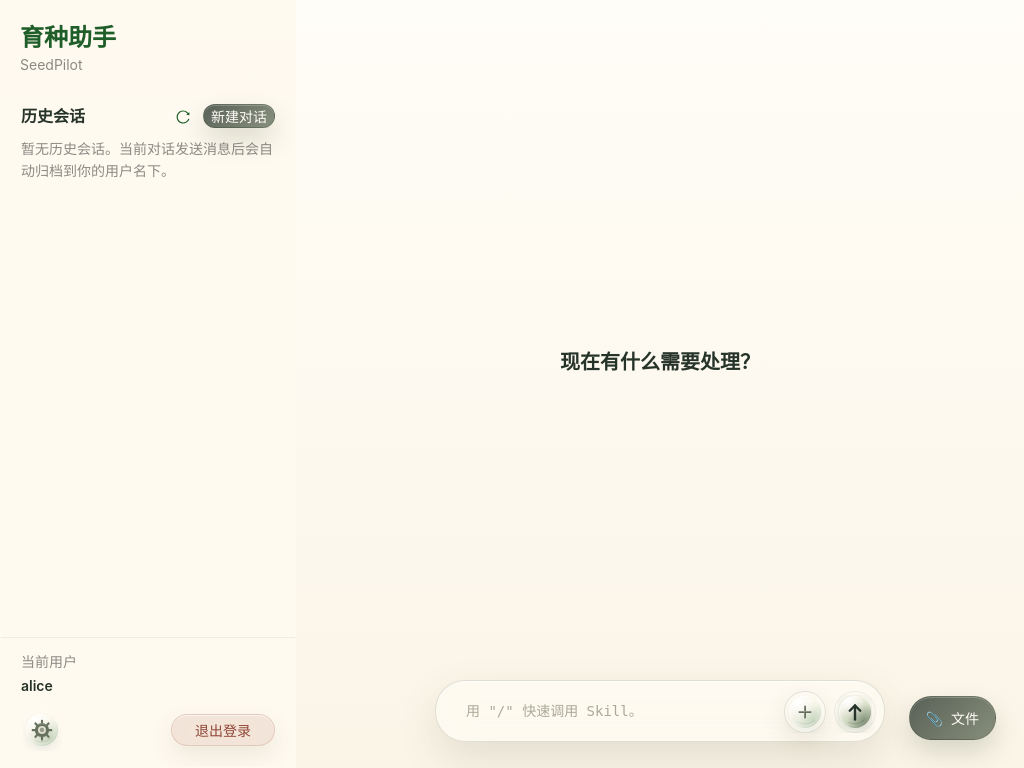
Test case: App › composer safe autofocus focuses the composer when an interrupt prompt is ready
Check: the heading "育种助手" is shown, box [20,23,116,52]
In the text box named "请输入问题": (612, 711) [448,689,776,733], type "查询基因型"
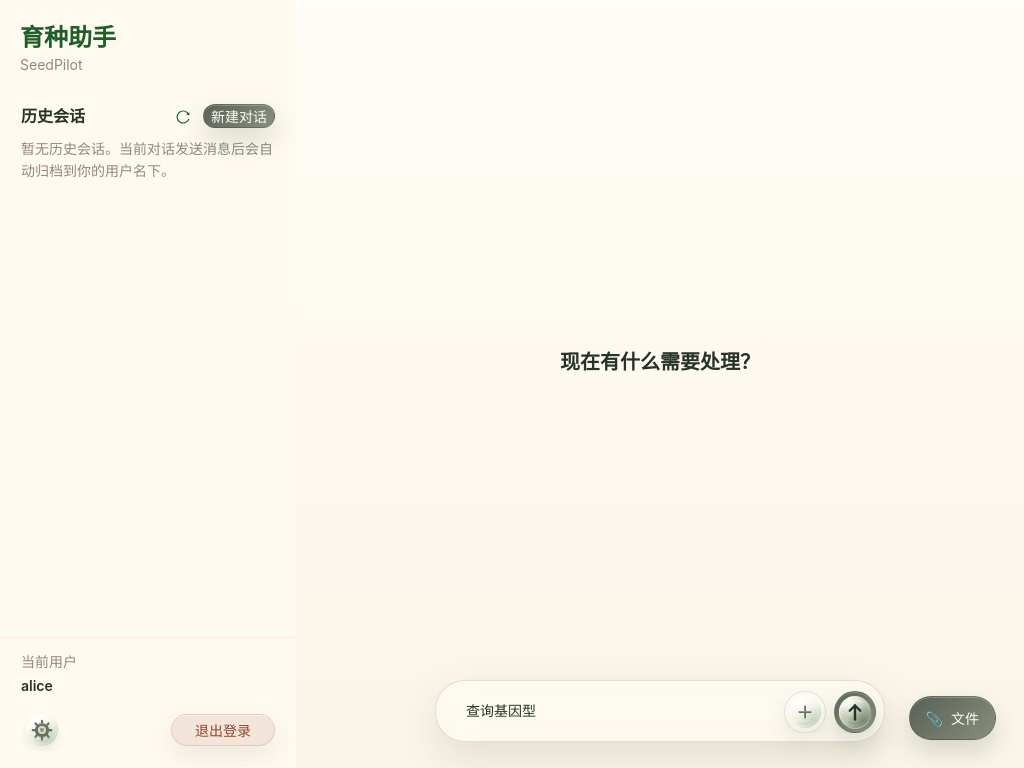
Click the button named "发送": (855, 712) [834,691,876,733]
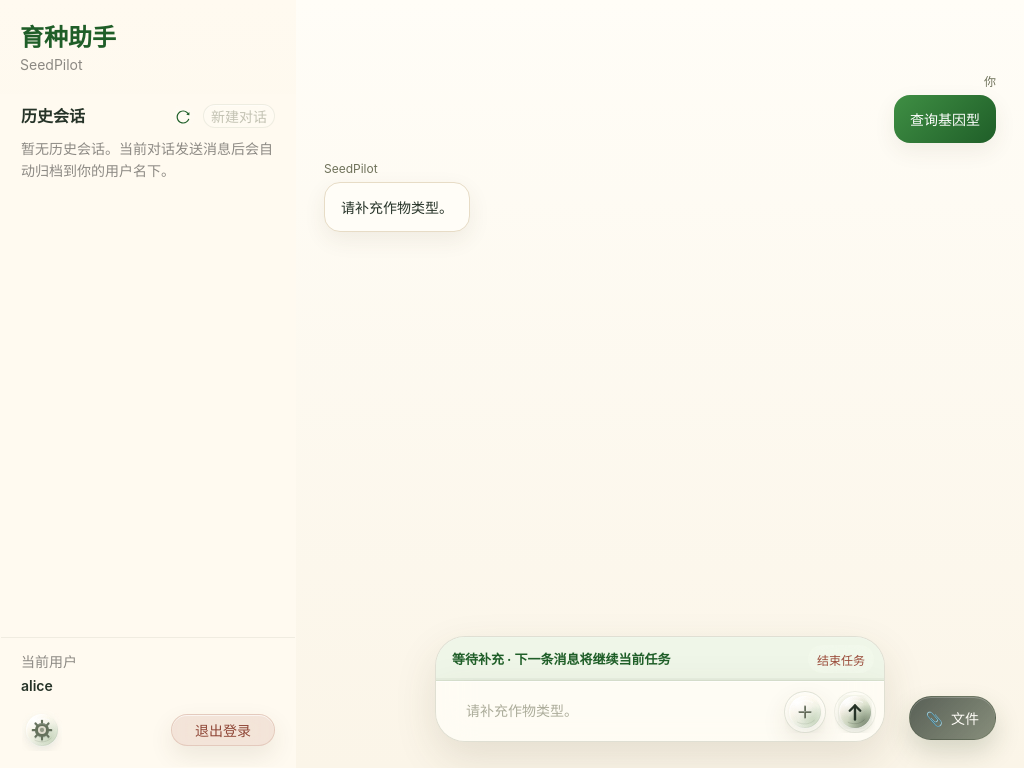
Check: the text "请补充作物类型。" is shown, box [341,197,453,217]
